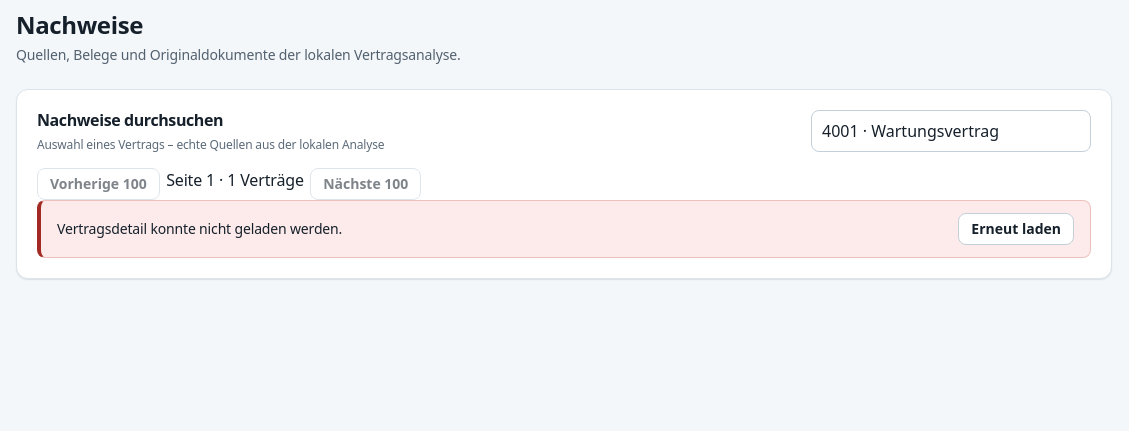
Test: Nachweise: Detailfehler trennt sich von der Auswahlliste › bleibt nach fehlgeschlagenem Detail-Load bedienbar und bietet Retry
The width and height of the screenshot is (1129, 431).
Expected: the text "Vertragsdetail konnte nicht geladen werden." is shown, [57,218,342,240]
Expected: the dropdown is enabled, [811,110,1091,152]
Click the button "Erneut laden": (1016, 229) [958,213,1074,245]
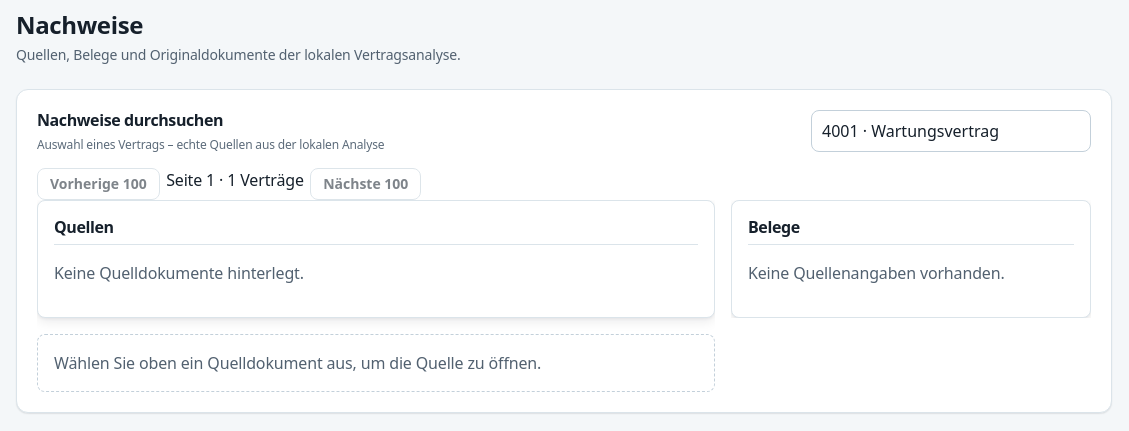
Result: the heading "Quellen" is shown at [54,217,698,245]
Result: the heading "Belege" is shown at [748,217,1074,245]
Result: the text "Vertragsdetail konnte nicht geladen werden." is gone
